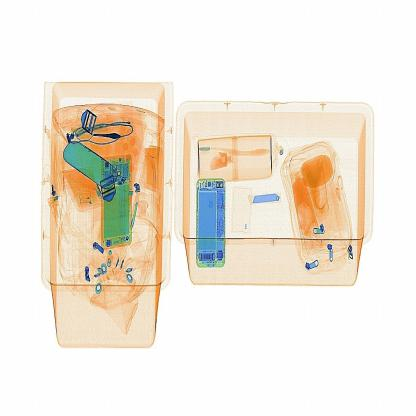pliers: (250, 184, 288, 215)
